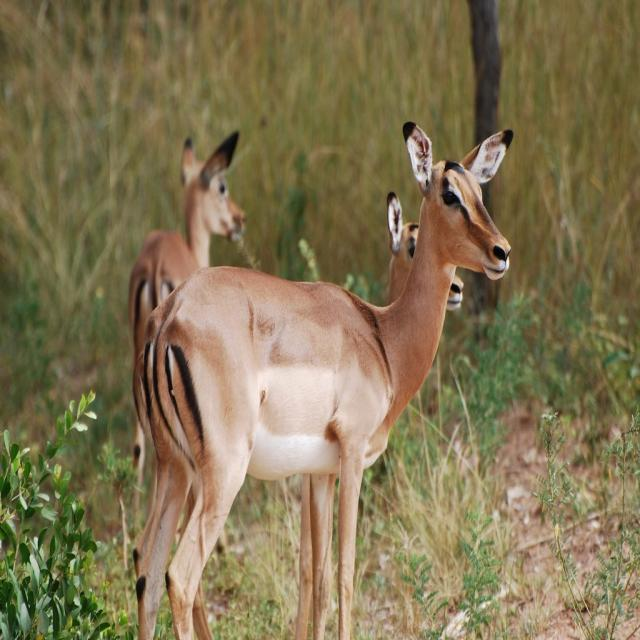Deer: (130, 121, 516, 640), (298, 191, 466, 637), (125, 128, 245, 562)
